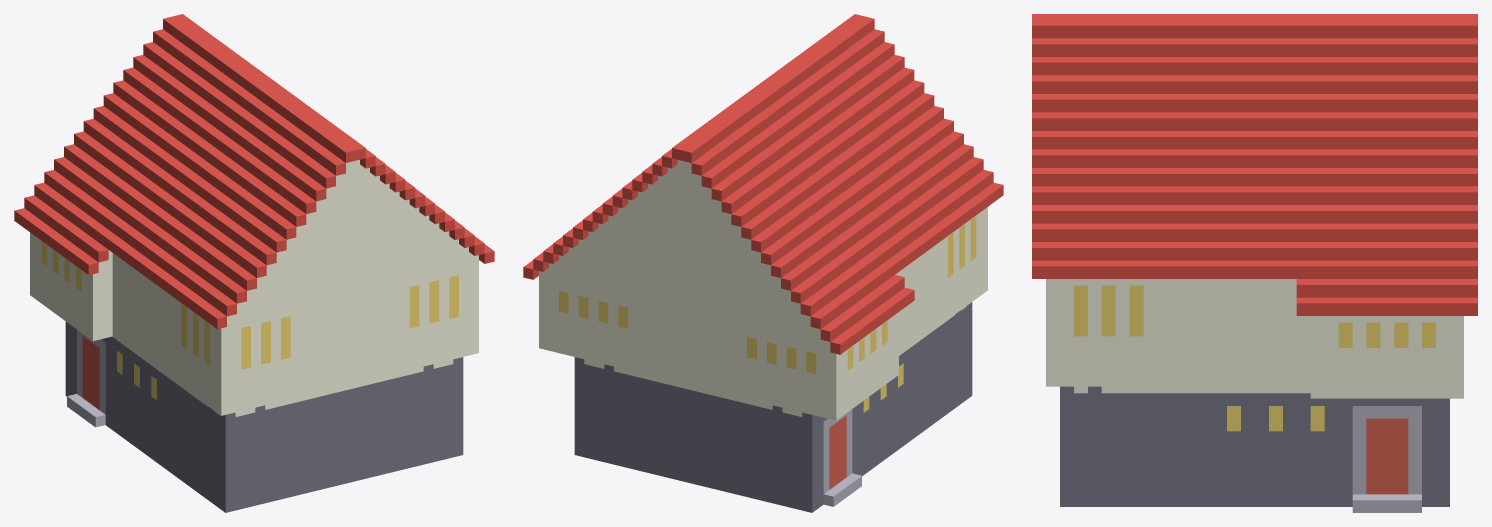
The model's file is Casa3.glb.
3 renders of one model, left to right at view 1: azimuth 30°, elevation 25°; view 2: azimuth 150°, elevation 25°; view 3: azimuth 270°, elevation 25°, orthographic. The views are drawn at different scales.
Visible parts, largest first — view 1: Build- 2; view 2: Build- 2; view 3: Build- 2.
Boxes of the visible parts, x1,y1,x2,y2 form: Build- 2: (14,14,494,512); Build- 2: (523,14,1003,512); Build- 2: (1032,14,1477,512).
Size of the model in its own units: 3.2 by 3.3 by 3.2.
Materials: 1 (1 with a texture image).
